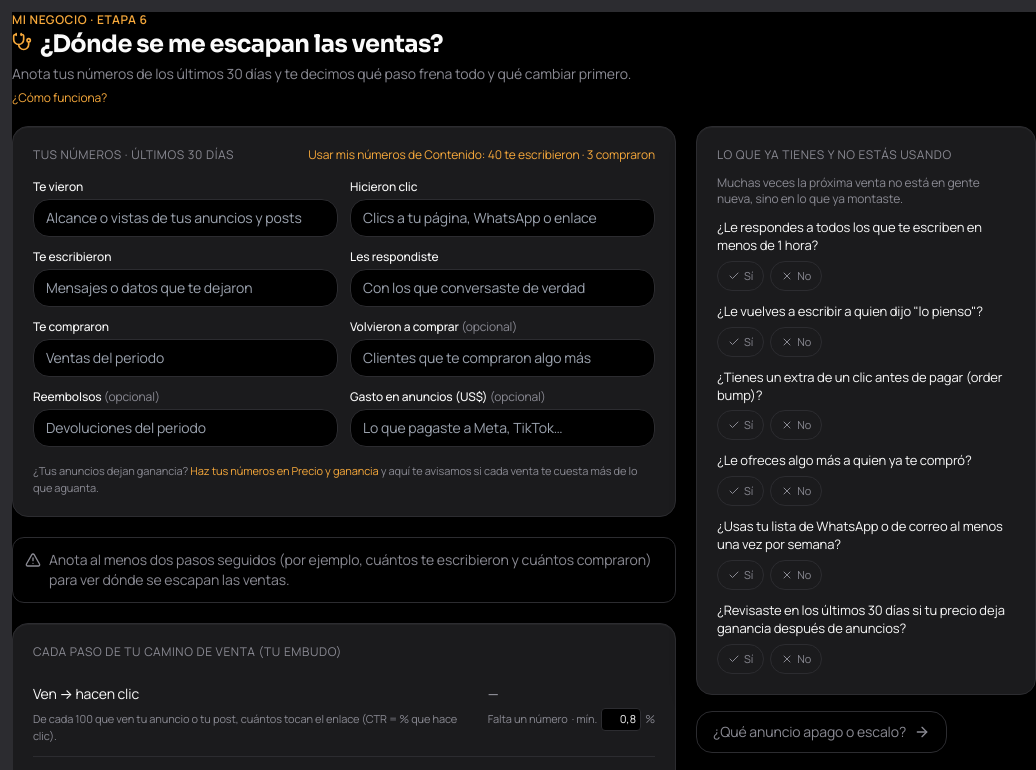
Test case: DiagnosticoPage › trae leads y ventas del tracker con un toque
Step 1. Click the button "Usar mis números de Contenido: 40 te escribieron · 3 compraron" → (482, 155), box [308, 147, 655, 163]
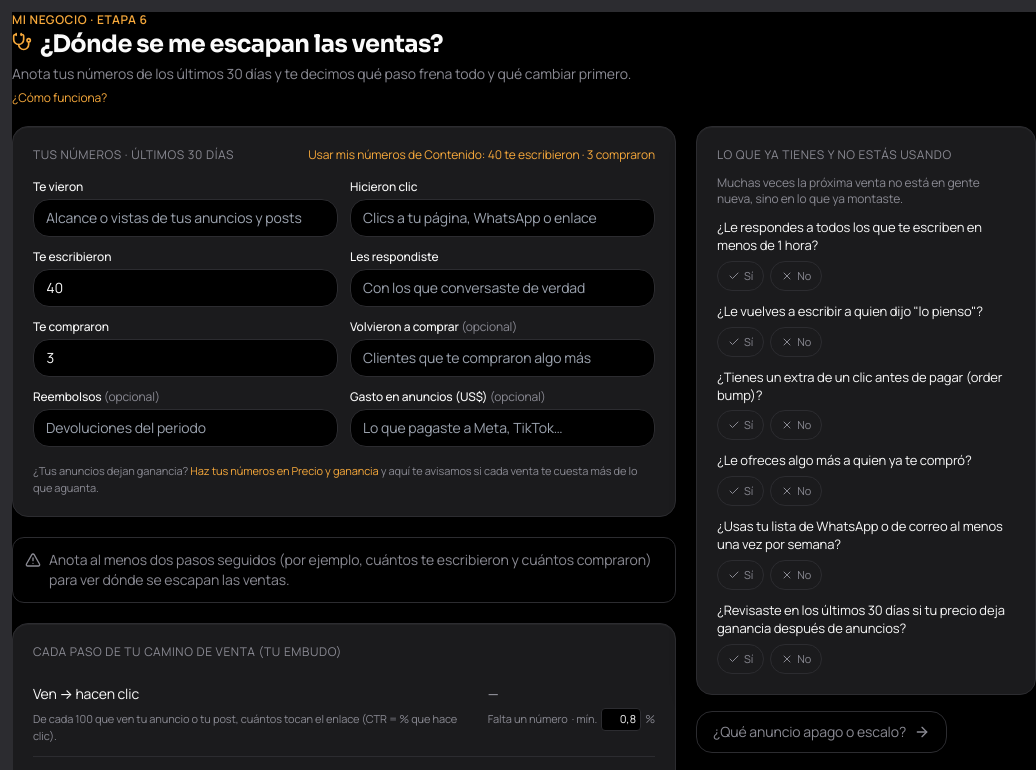
Check: the field labelled "Te escribieron" holds "40", box [33, 269, 338, 307]
Check: the field labelled "Te compraron" holds "3", box [33, 339, 338, 377]
